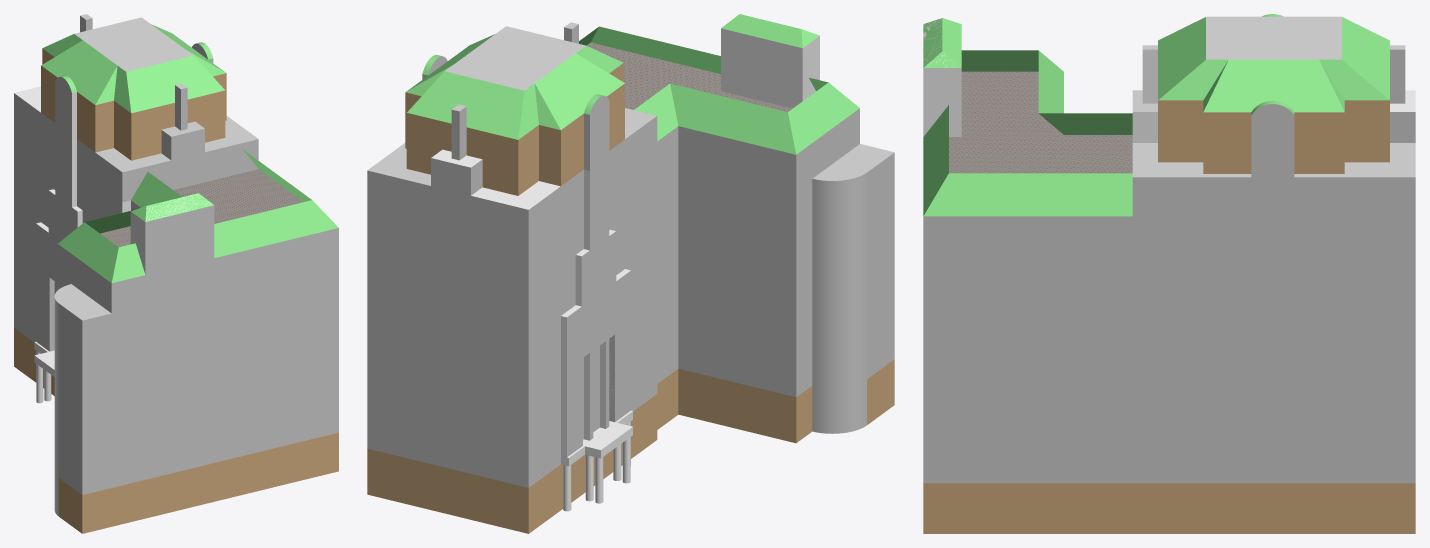
The model's file is ChateauRoyale.dae.
3 renders of one model, left to right at view 1: azimuth 30°, elevation 25°; view 2: azimuth 150°, elevation 25°; view 3: azimuth 270°, elevation 25°, orthographic. The views are drawn at different scales.
Parts seen in each view (by area): view 1: SketchUp (×14); view 2: SketchUp (×16); view 3: SketchUp (×14).
Boxes of the visible parts, x1,y1,x2,y2 form: SketchUp (×14): (14,17,338,533); SketchUp (×16): (367,14,894,533); SketchUp (×14): (923,16,1415,533).
Size of the model in its own units: 1825 by 2325 by 2350.
Materials: 11 (1 with a texture image).
